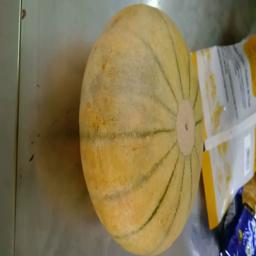Melon Semifresh: (81, 5, 204, 256)
